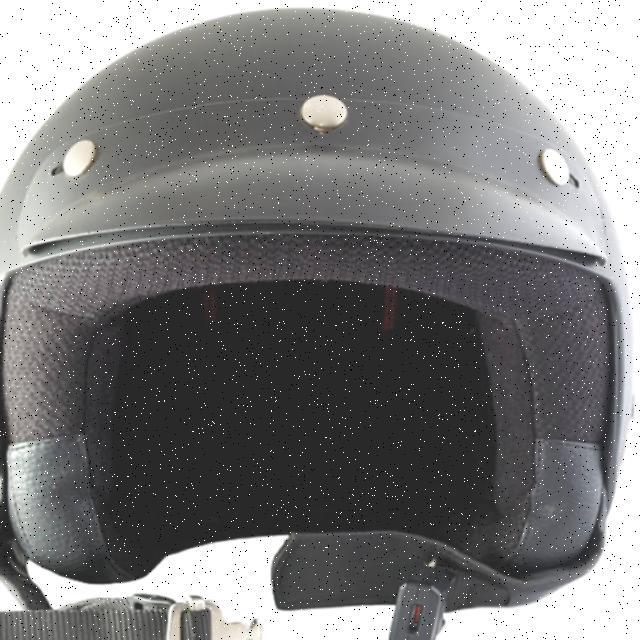with-helmet: (0, 1, 635, 640)
